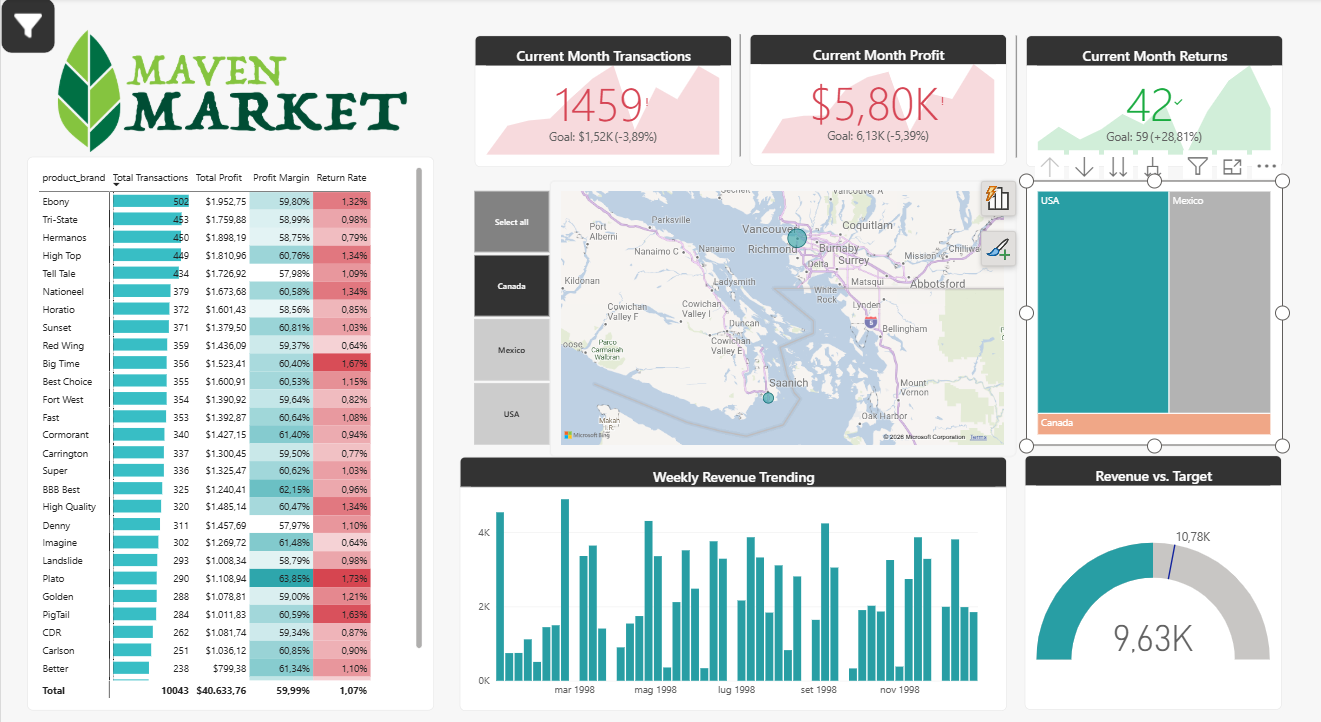

What the dashboard file says about the page in this screenshot:
{"tool":"powerbi","page":{"name":"Topline Performance","canvas":[1920,1080],"ordinal":0},"visuals":[{"type":"shape","box":[1286.3,55,366.7,176.7],"z":0},{"type":"shape","box":[887,53.3,367,177],"z":1000},{"type":"image","box":[66.2,15.7,531.4,235.2],"z":2000},{"type":"pivotTable","fields":{"Rows":["Products.product_brand"],"Values":["Mesure Table.Total Transactions","Mesure Table.Total Profit","Mesure Table.Profit Margin","Mesure Table.Return Rate"]},"box":[38.3,230,588.9,801.5],"z":3000},{"type":"kpi","title":"Current Month Transactions","fields":{"Goal":["Mesure Table.Last Month Transactions"],"Indicator":["Mesure Table.Total Transactions"],"TrendLine":["Calendar.Start of Month"]},"box":[685,55,371.7,190],"z":4000},{"type":"kpi","title":"Current Month Returns","fields":{"Goal":["Mesure Table.Last Month Returns"],"Indicator":["Mesure Table.Total Returns"],"TrendLine":["Calendar.Start of Month"]},"box":[1483.3,55,371.7,190],"z":5000},{"type":"kpi","title":"Current Month Profit","fields":{"Goal":["Mesure Table.Last Month Profit"],"Indicator":["Mesure Table.Total Profit"],"TrendLine":["Calendar.Start of Month"]},"box":[1084.3,53.3,371.7,190],"z":6000},{"type":"map","fields":{"Category":["Stores.City"],"Size":["Mesure Table.Total Transactions"]},"box":[795,263.3,675,400],"z":7000},{"type":"slicer","fields":{"Values":["Stores.store_country"]},"box":[665,276.7,148.3,371.7],"z":8000},{"type":"treemap","fields":{"Group":["Stores.store_country","Stores.State","Stores.City"],"Values":["Mesure Table.Total Transactions"]},"box":[1483.3,263.3,371.7,385],"z":9000},{"type":"columnChart","title":"Weekly Revenue Trending","fields":{"Category":["Calendar.Start Of Week"],"Y":["Mesure Table.Total Revenue"]},"box":[665,663.3,791.7,368.3],"z":10000},{"type":"gauge","title":"Revenue vs. Target","fields":{"TargetValue":["Mesure Table.Revenue Target"],"Y":["Mesure Table.Total Revenue"]},"box":[1483,663,372,368],"z":11000},{"type":"actionButton","box":[0,0,78.3,80],"z":11001}]}

Visuals, with their boxes in screenshot pixels (x1, y1, x2, y2), scaled from the page's 1920x1080 canvas onto the 1321x722 screenshot:
shape: [885, 37, 1137, 155]
shape: [610, 36, 863, 154]
image: [46, 10, 411, 168]
pivotTable - Products.product_brand x Mesure Table.Total Transactions: [26, 154, 432, 690]
"Current Month Transactions" kpi: [471, 37, 727, 164]
"Current Month Returns" kpi: [1021, 37, 1276, 164]
"Current Month Profit" kpi: [746, 36, 1002, 163]
map - Stores.City x Mesure Table.Total Transactions: [547, 176, 1011, 443]
slicer - Stores.store_country: [458, 185, 560, 433]
treemap - Stores.store_country x Stores.State: [1021, 176, 1276, 433]
"Weekly Revenue Trending" columnChart: [458, 443, 1002, 690]
"Revenue vs. Target" gauge: [1020, 443, 1276, 689]
actionButton: [0, 0, 54, 53]
